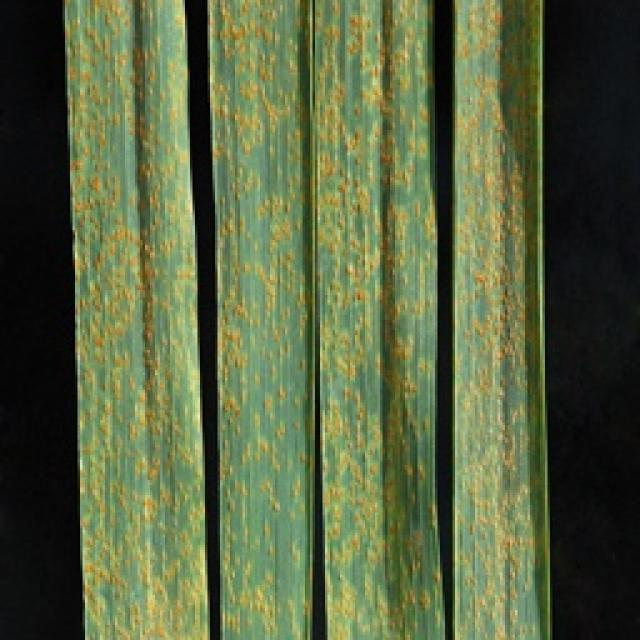Yellow Rust: (60, 0, 555, 638)
